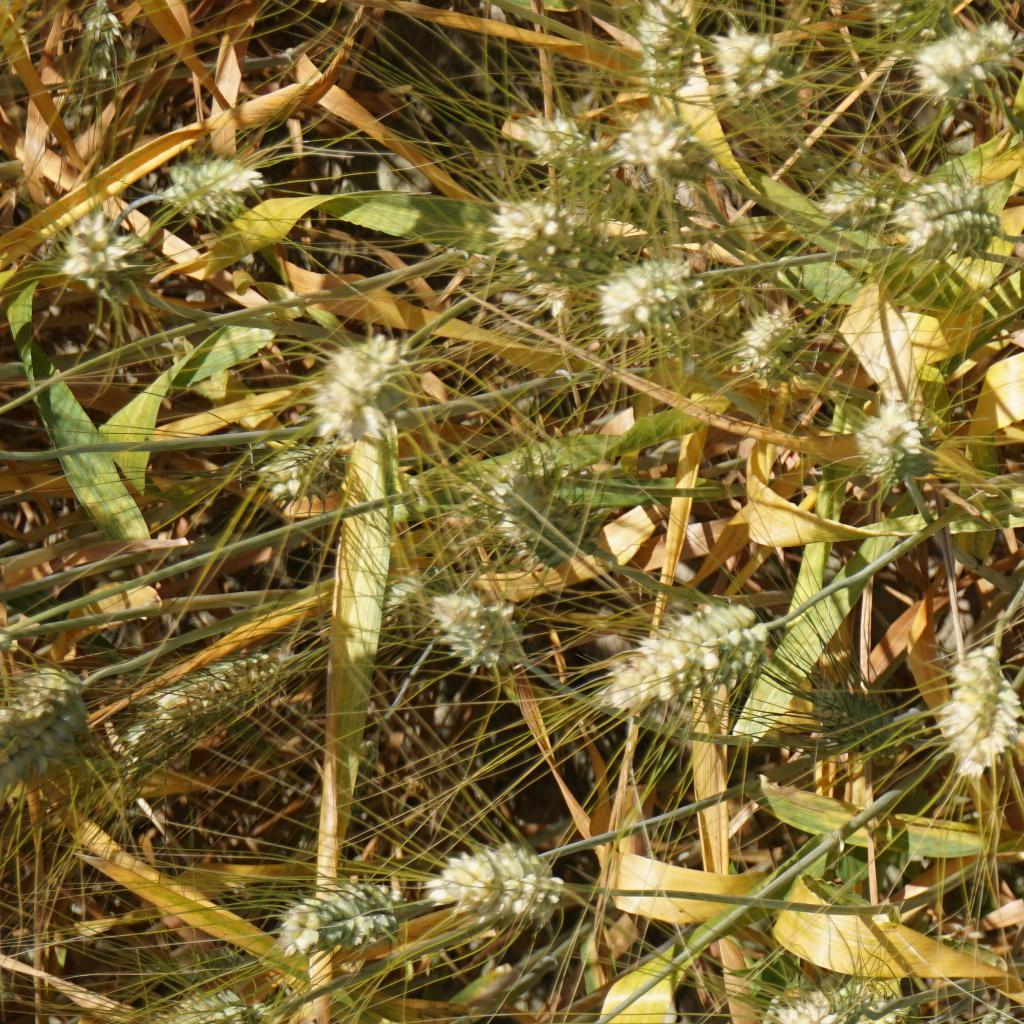0-0: (604, 599, 758, 695), (462, 451, 599, 557), (929, 645, 1024, 791), (306, 331, 427, 437), (425, 836, 578, 919), (431, 585, 535, 675), (274, 873, 401, 946), (0, 677, 111, 760), (375, 559, 488, 635), (151, 658, 279, 723), (60, 15, 132, 129), (596, 257, 699, 335), (911, 10, 1013, 88), (157, 151, 271, 220), (247, 435, 349, 512), (848, 393, 937, 479), (764, 976, 918, 1024), (489, 194, 583, 271), (631, 0, 705, 97), (904, 171, 997, 244), (809, 674, 896, 752), (707, 19, 793, 95), (519, 116, 611, 187), (141, 981, 281, 1024), (623, 112, 712, 179), (47, 207, 135, 272), (821, 169, 897, 235), (168, 935, 260, 989), (741, 309, 818, 367), (850, 0, 939, 25)
